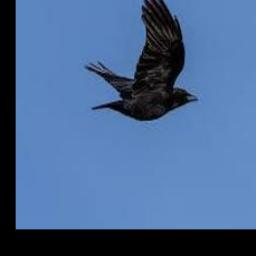Crow: (85, 0, 199, 120)
